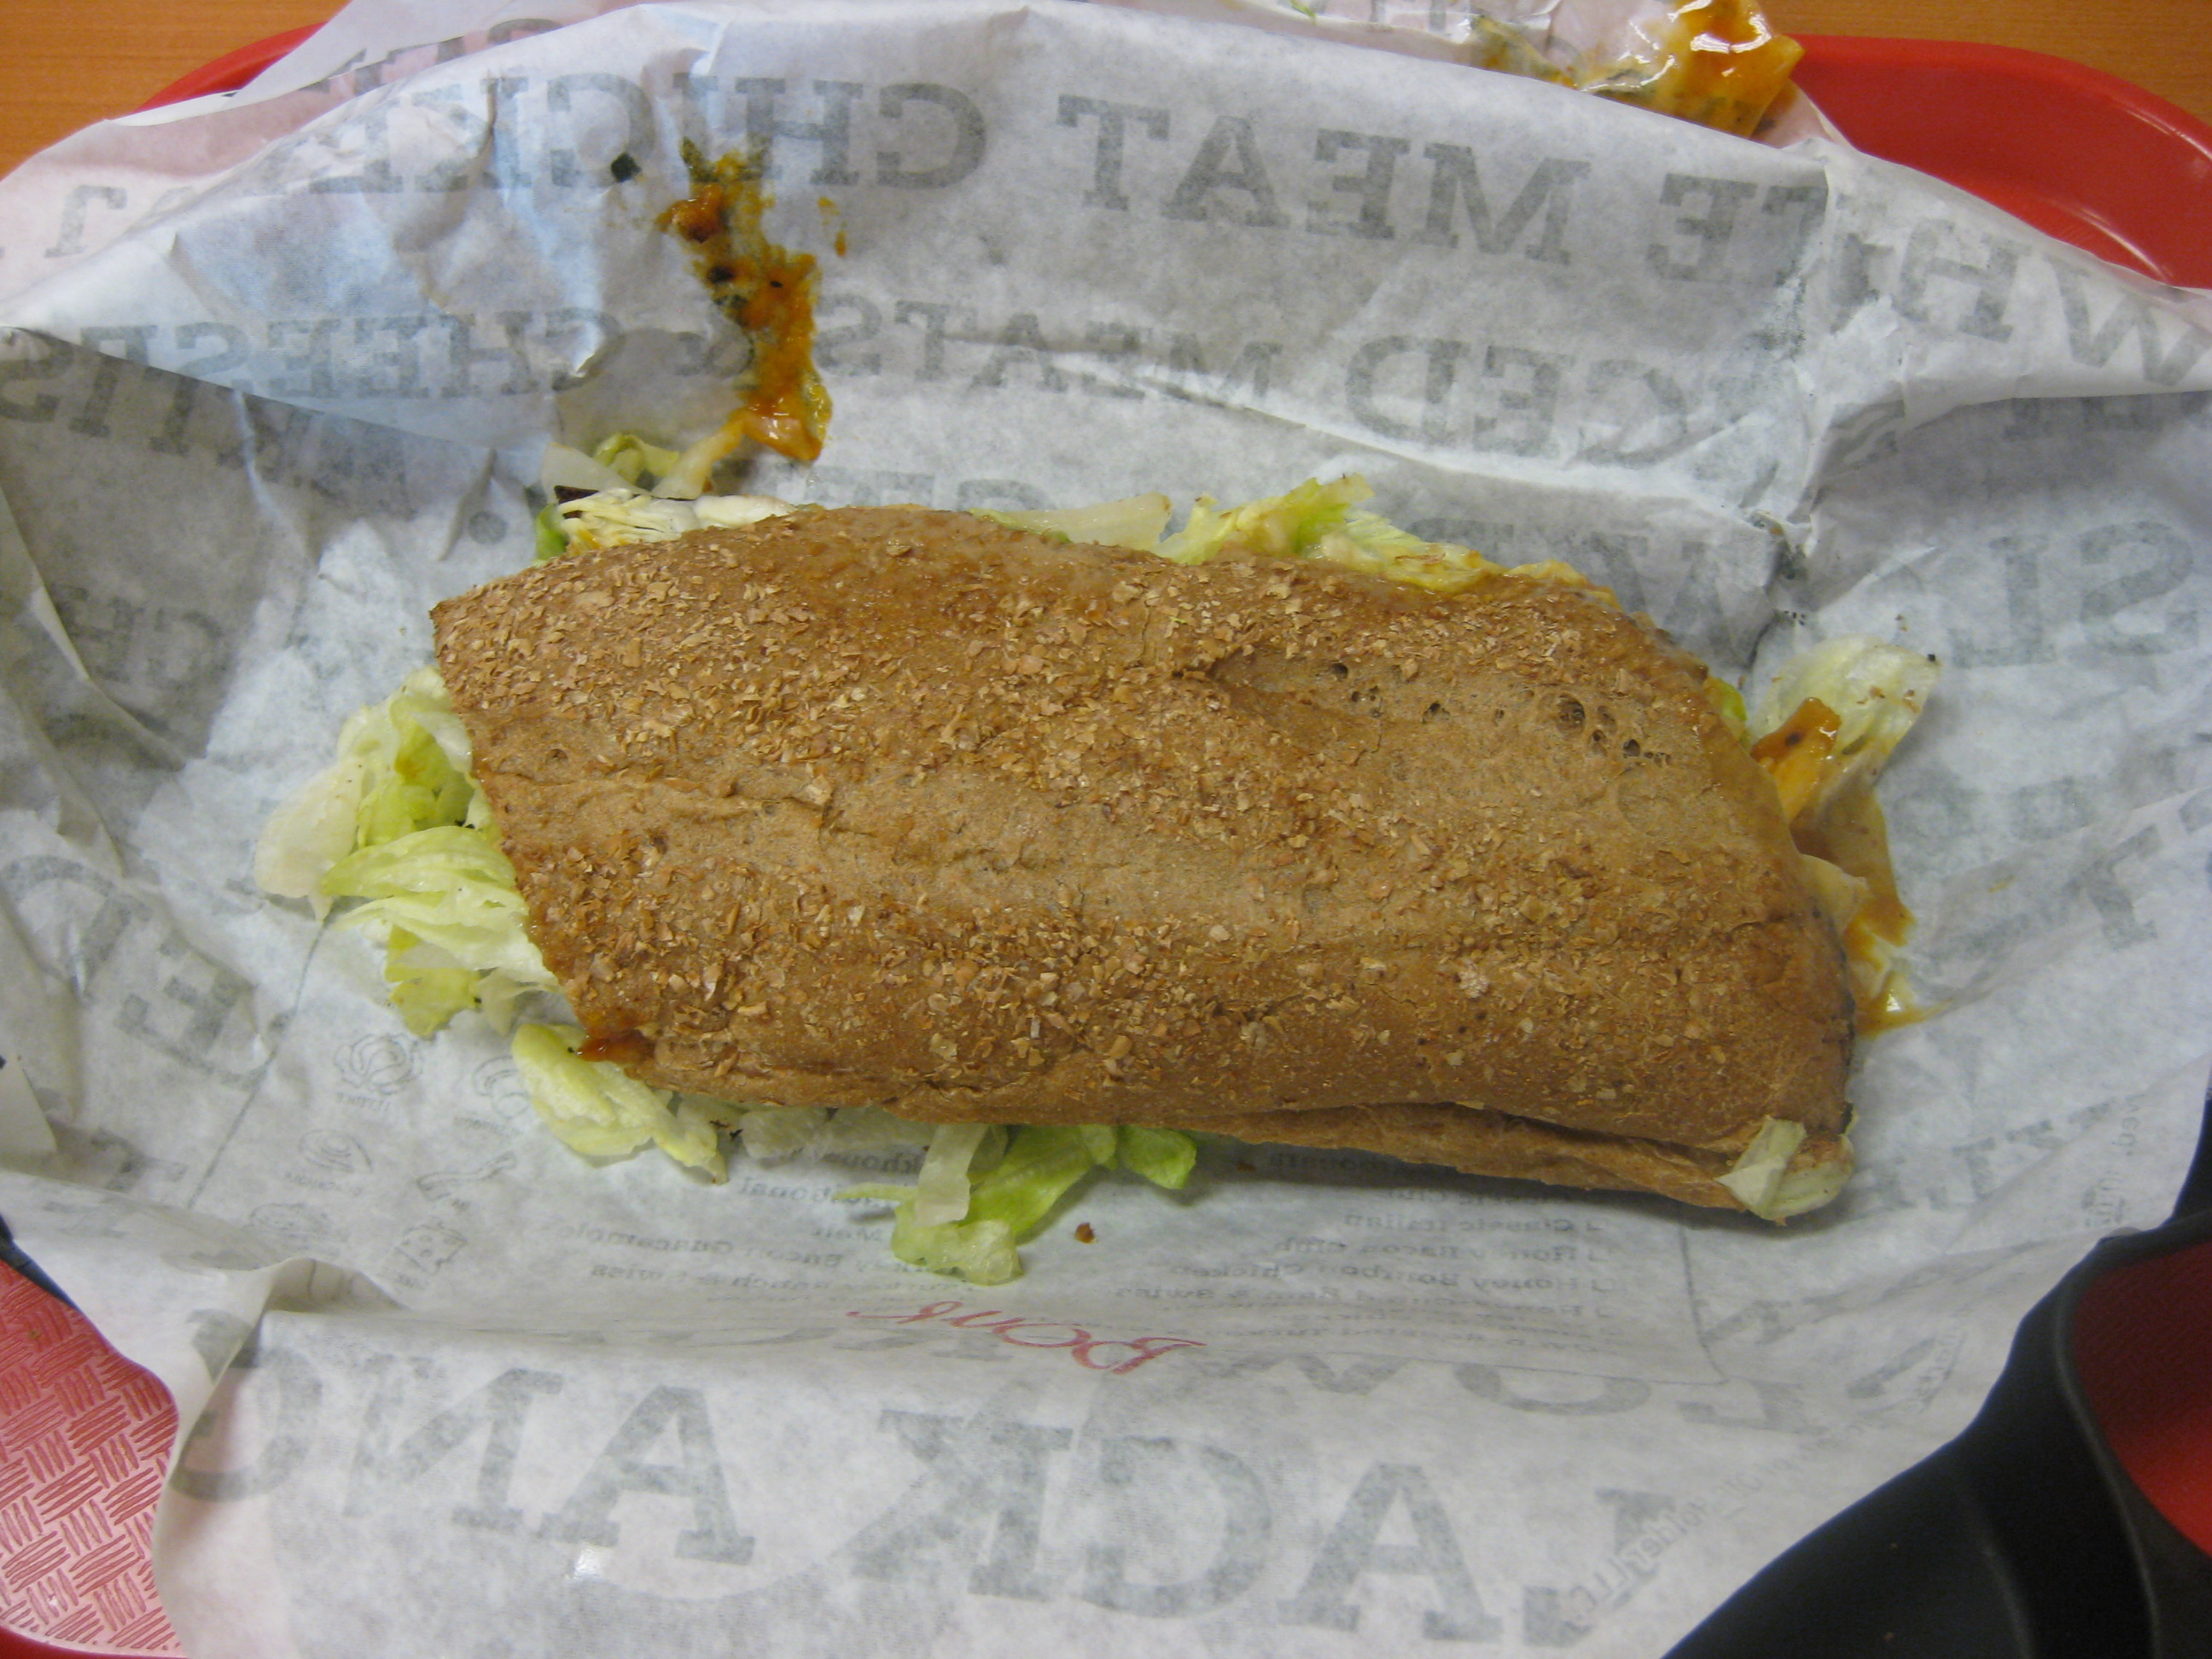sub: (334, 524, 1992, 1249)
